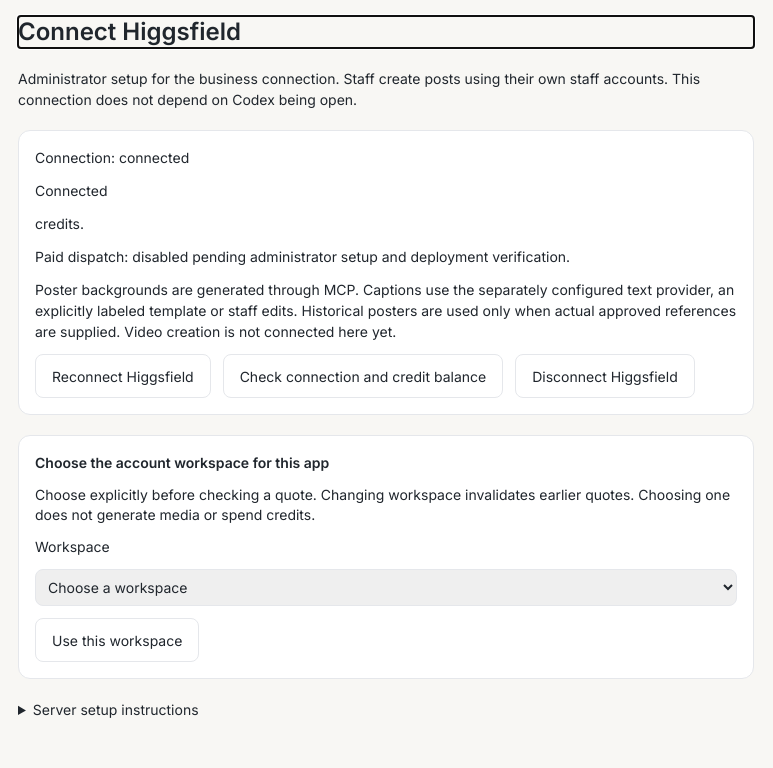
it: business Higgsfield connection and credit confirmation › requires an explicit accessible workspace choice and does not authorize generation
Expected: the button "Use this workspace" is disabled, top-left (35, 618), bottom-right (199, 662)
Select "Personal workspace · private · pro" in the dropdown labelled "Workspace" at (386, 588), box top-left (35, 569), bottom-right (737, 606)
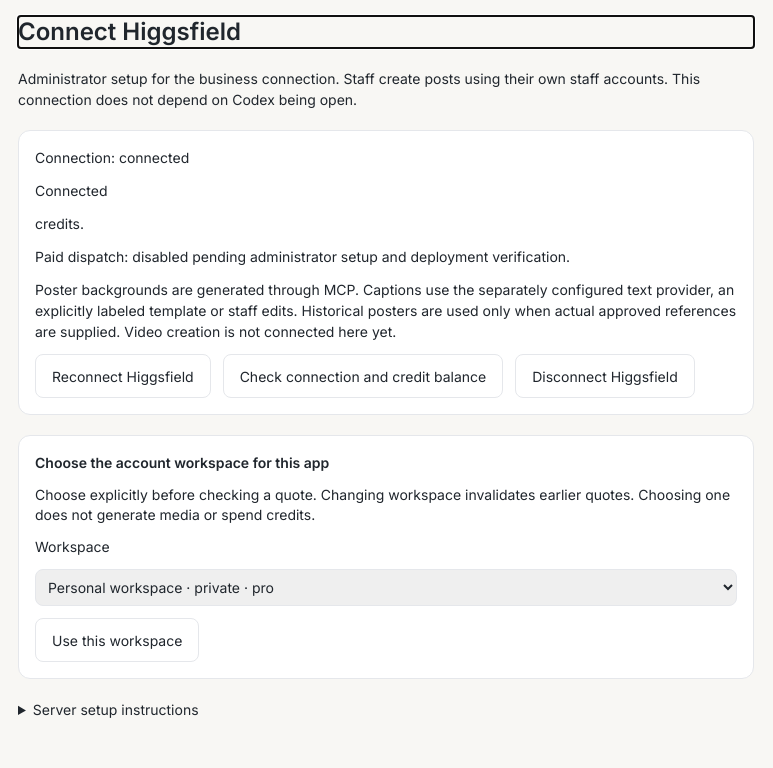
Click the button "Use this workspace" at (117, 640), box top-left (35, 618), bottom-right (199, 662)
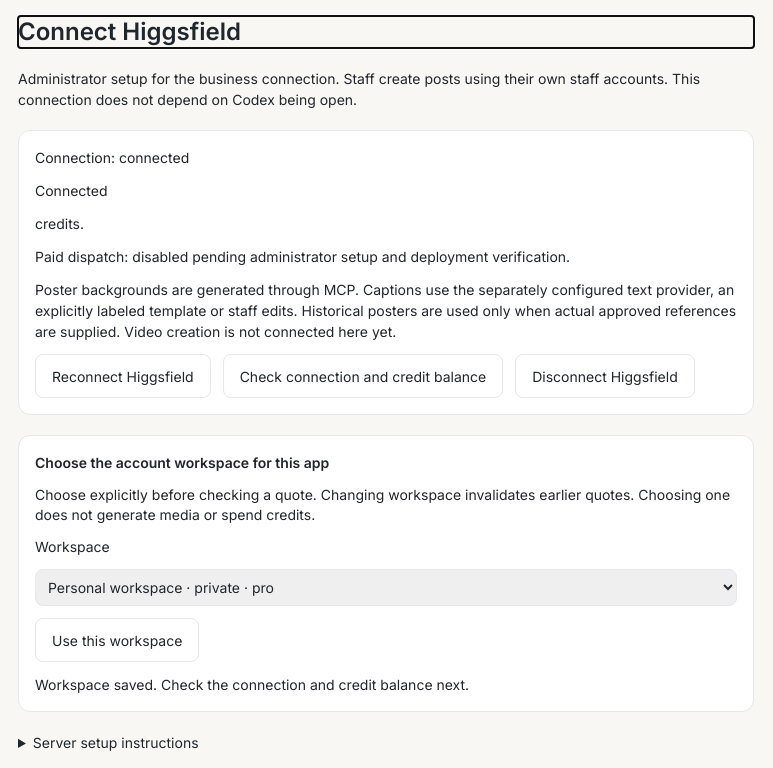
Result: the text "Workspace saved. Check the connection and credit balance next." is shown at top-left (35, 676), bottom-right (469, 693)
